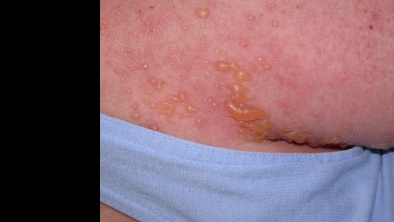SJS-TEN: (98, 0, 394, 172)
